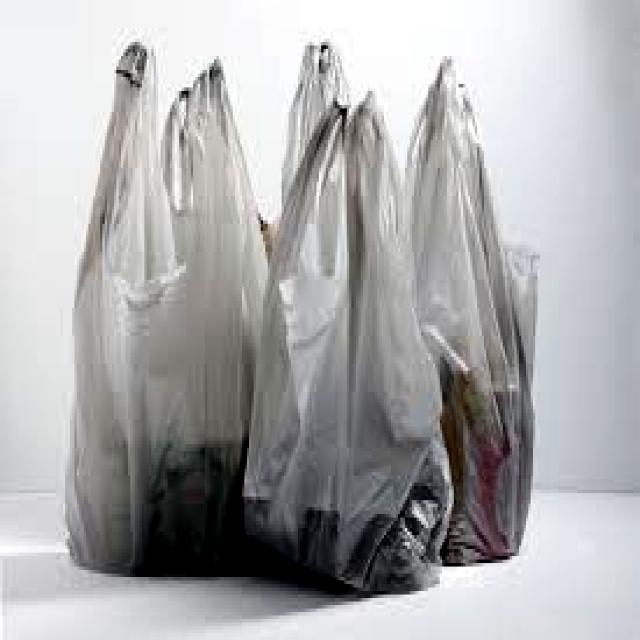Plastic: (59, 49, 268, 574), (254, 98, 453, 600), (402, 62, 544, 562)
